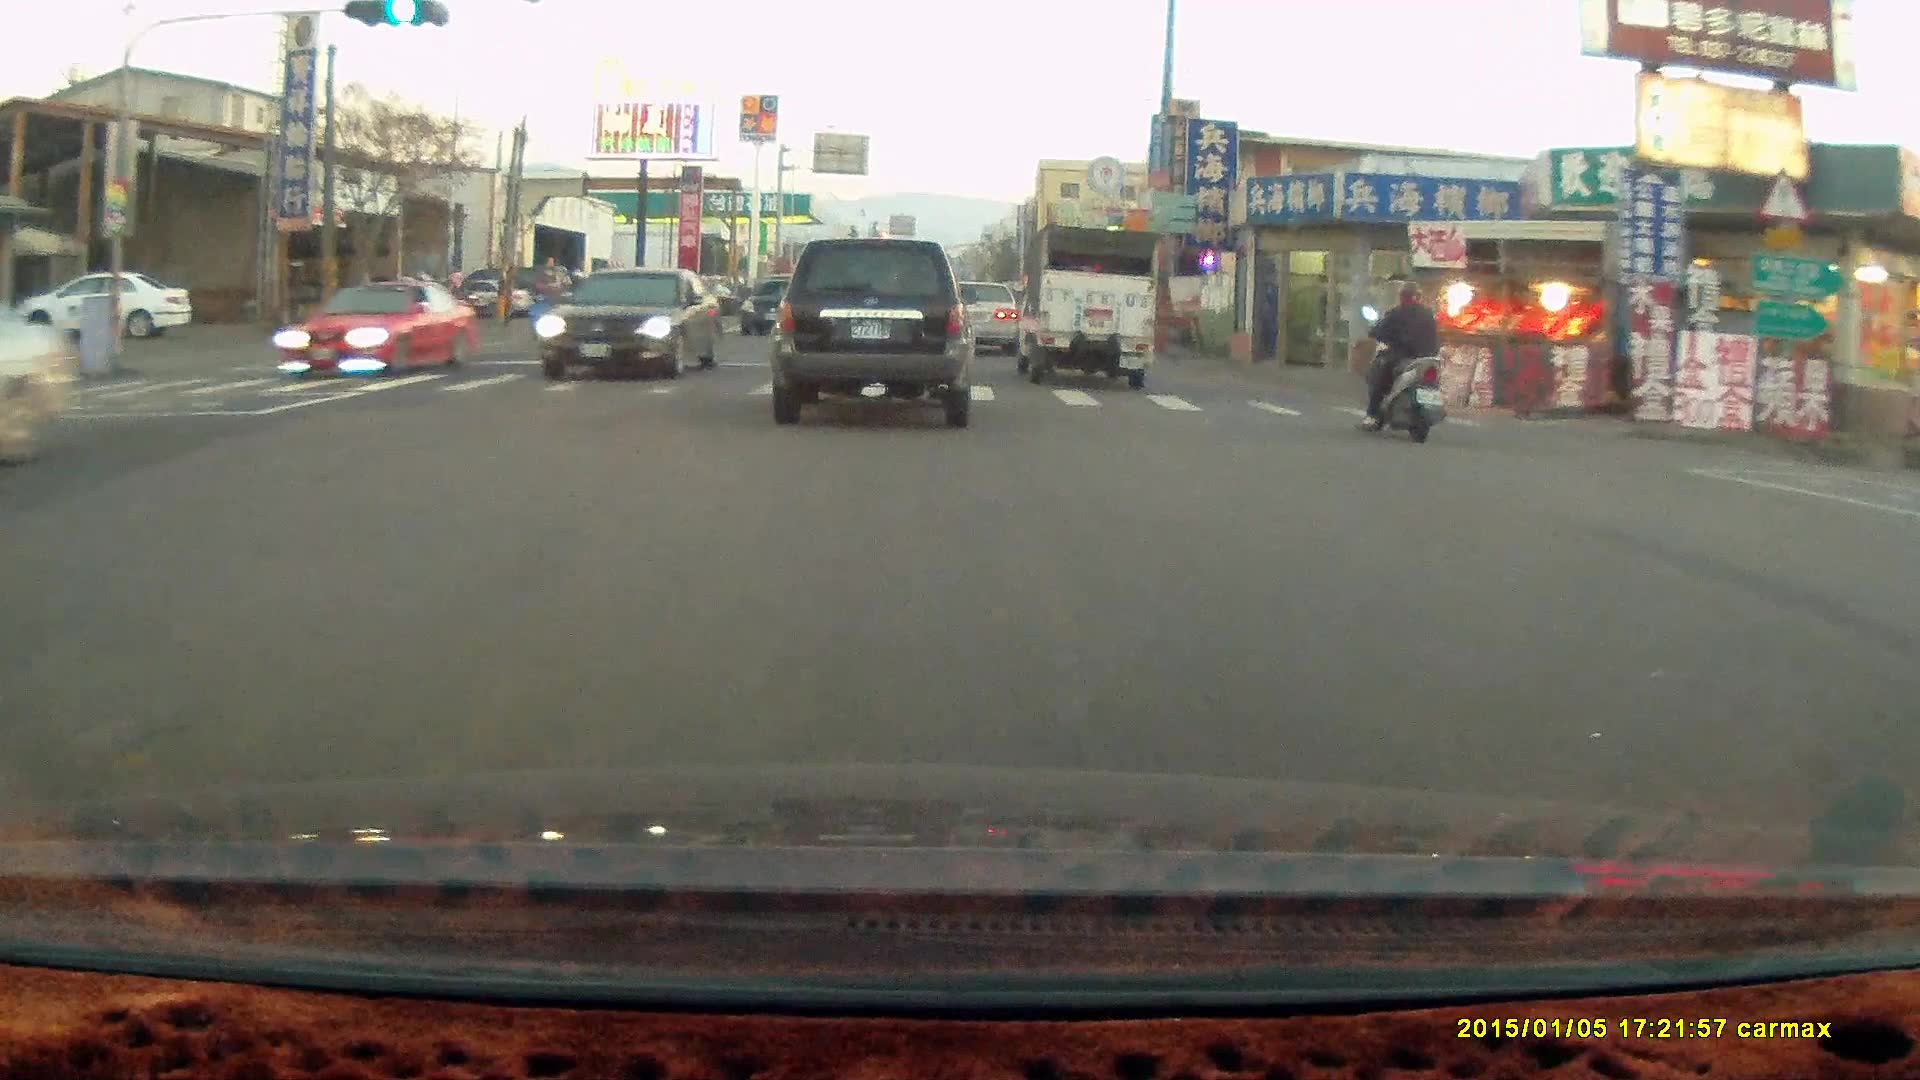rider: (1355, 283, 1444, 449), (521, 273, 560, 339)
vehicle: (767, 238, 980, 427), (1012, 222, 1161, 391), (536, 264, 728, 383), (274, 279, 474, 382), (12, 270, 195, 343), (937, 278, 1020, 354), (957, 285, 1032, 364), (740, 276, 826, 339)
